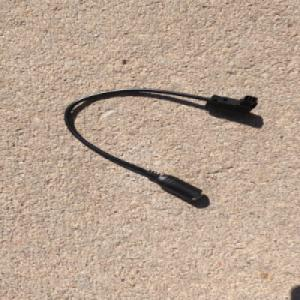Wire: (61, 86, 259, 202)
